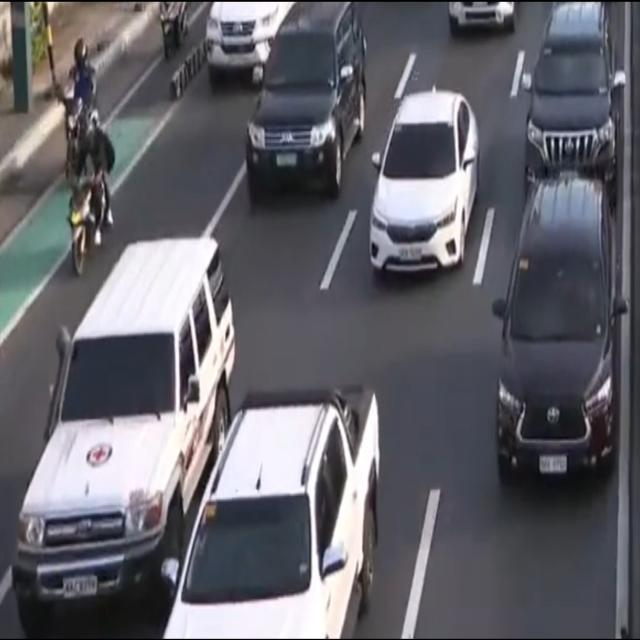Motorcycle: (65, 104, 113, 278), (59, 38, 97, 185), (156, 0, 189, 64)
SUV: (153, 378, 385, 640), (494, 165, 625, 480), (244, 0, 370, 210), (518, 0, 624, 176)
Sedan: (366, 90, 484, 285)
